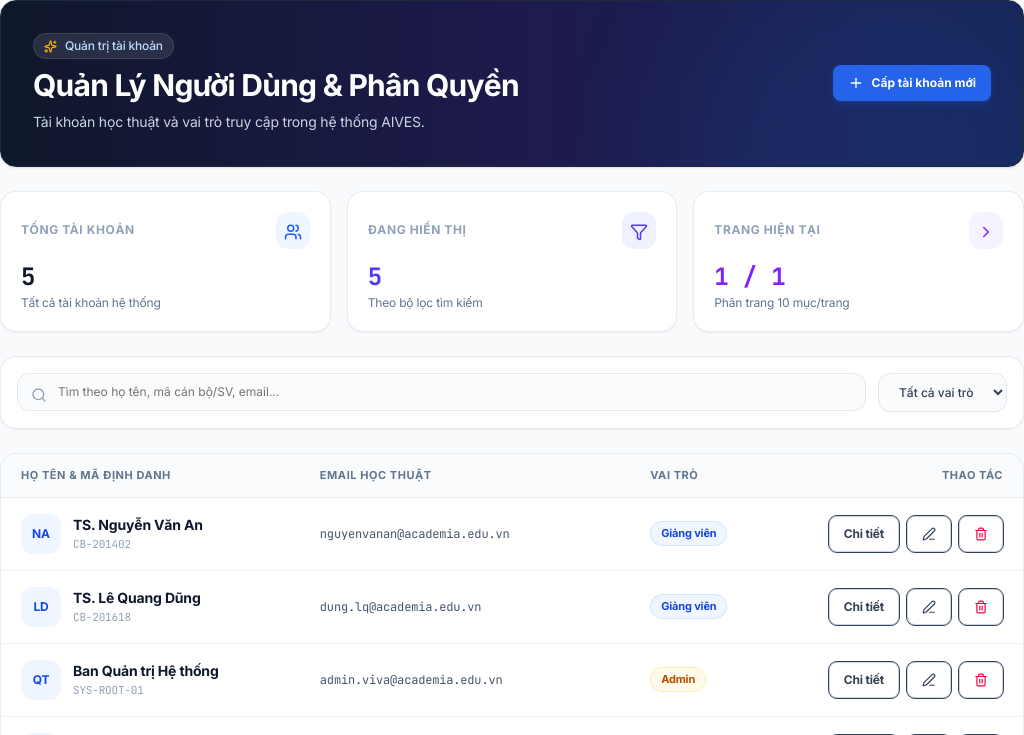
Scenario: Admin User Creation Flow › opens create modal, fills form, submits, closes modal, and shows success alert
expect the link "TS. Nguyễn Văn An" is shown: met, box [73,516,203,533]
# Click "Cấp tài khoản mới"
Click the button "Cấp tài khoản mới" at [912, 83], box [833,65,991,101]
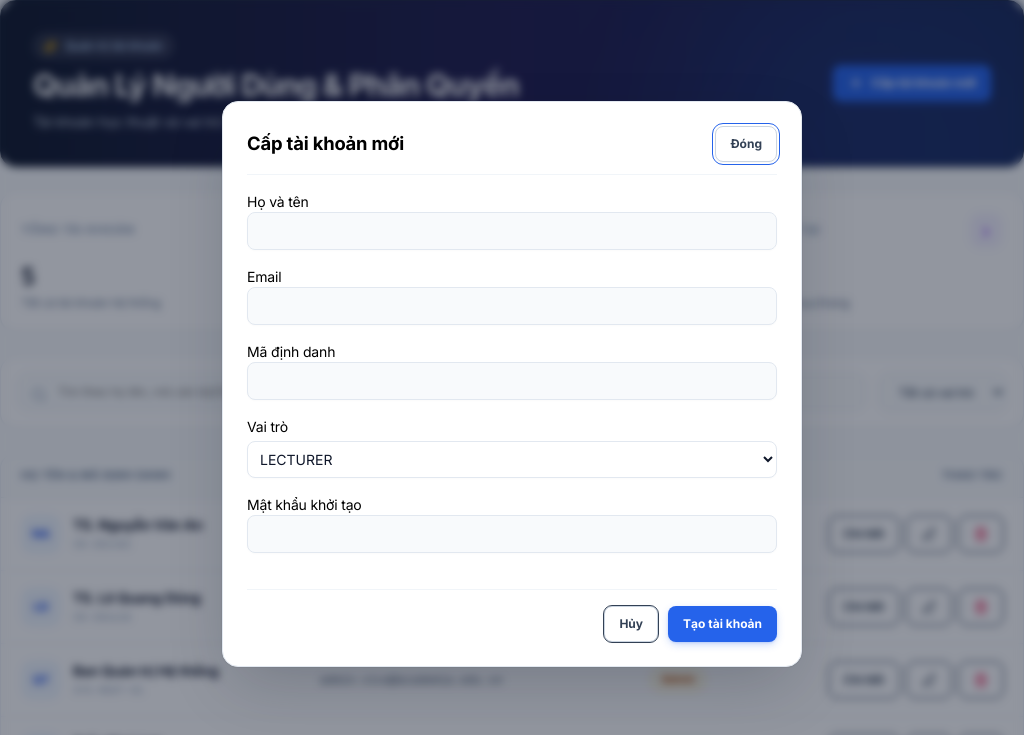
expect the heading "Cấp tài khoản mới" is shown: met, box [247,130,404,158]
Type "Giảng Viên Test" into the field labelled "Họ và tên" at [512, 231], box [247,212,777,250]
Type "gvtest@academia.edu.vn" into the field labelled "Email" at [512, 306], box [247,287,777,325]
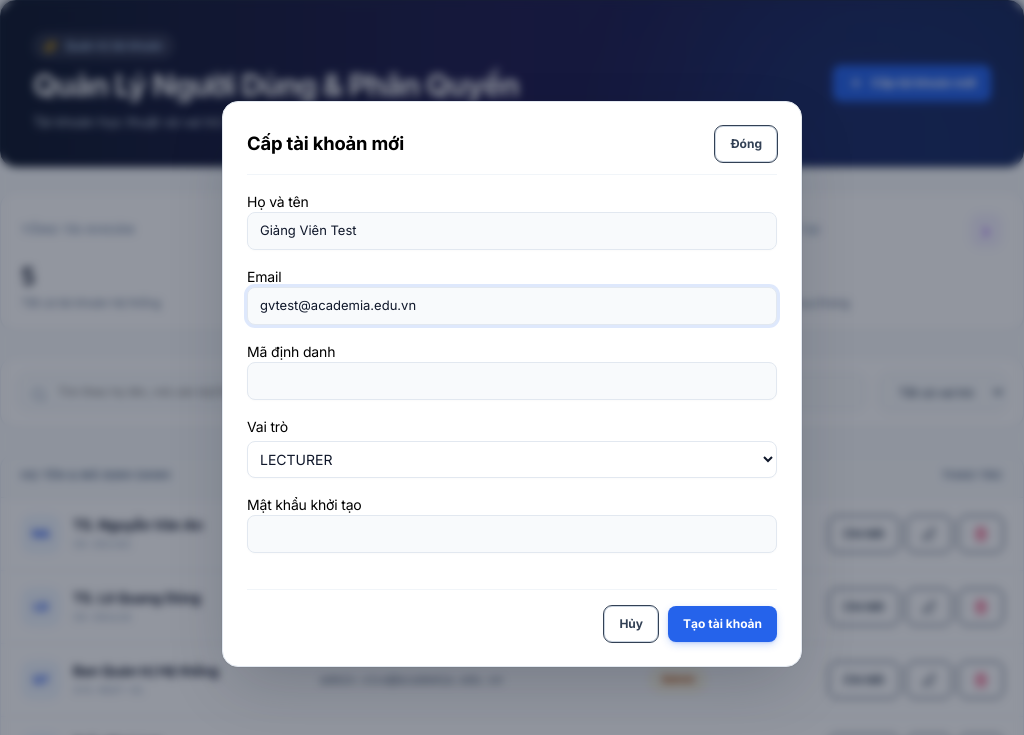
Type "CB-99999" into the field labelled "Mã định danh" at [512, 381], box [247,362,777,400]
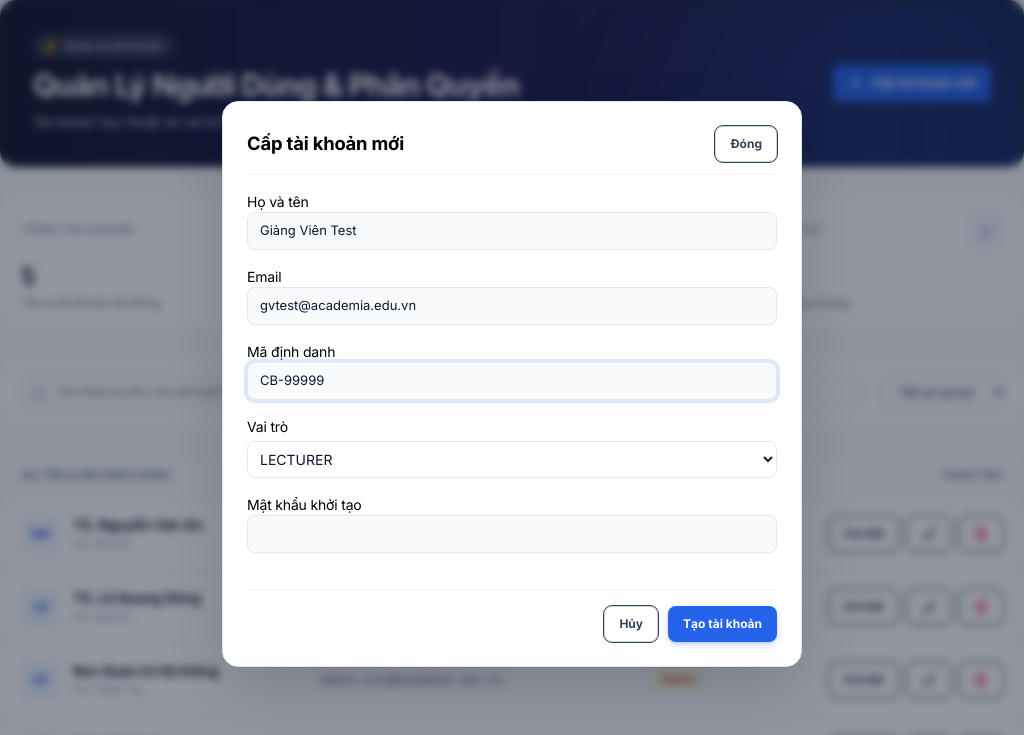
Type "Password123!" into the password field labelled "Mật khẩu khởi tạo" at [512, 534], box [247,515,777,553]
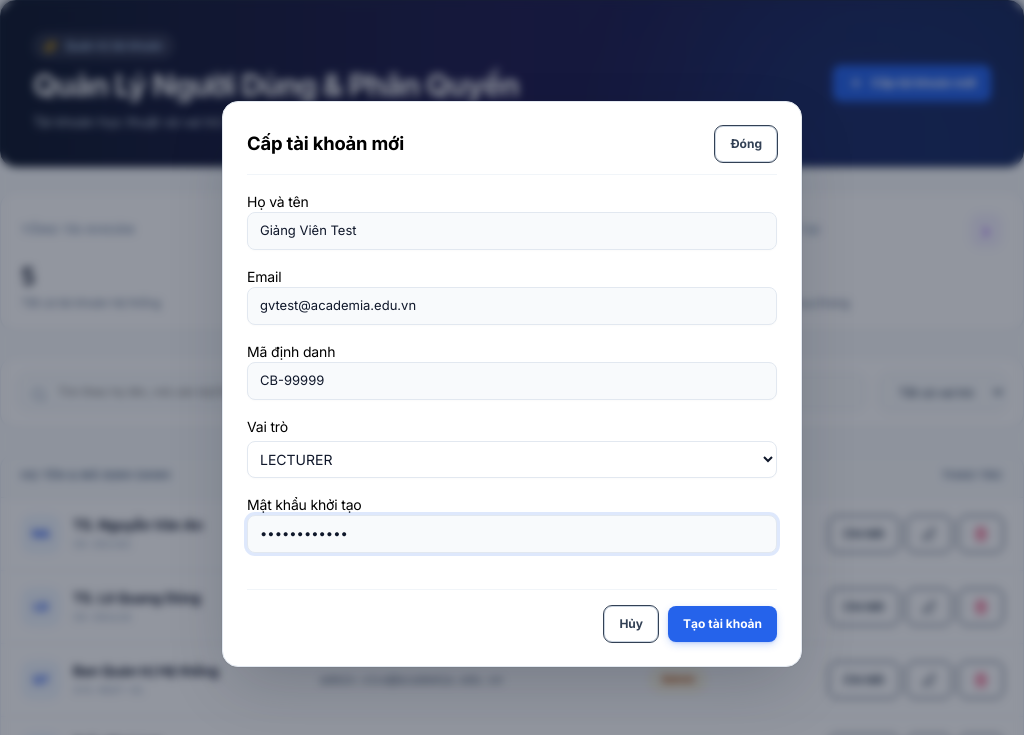
# Submit via "Tạo tài khoản" button
Click the button "Tạo tài khoản" at [723, 624], box [668,606,777,642]
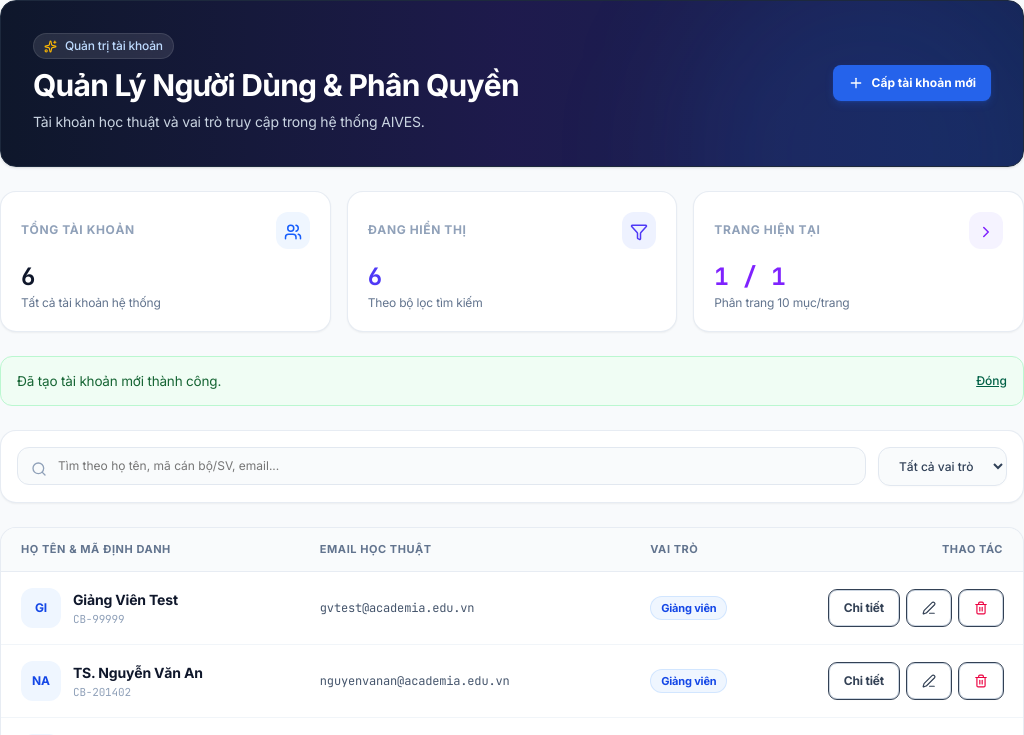
expect the text "Đã tạo tài khoản mới thành công." is shown: met, box [17,371,221,391]
# Dismiss feedback
Click the button "Đóng" at [992, 381], box [976,373,1007,389]
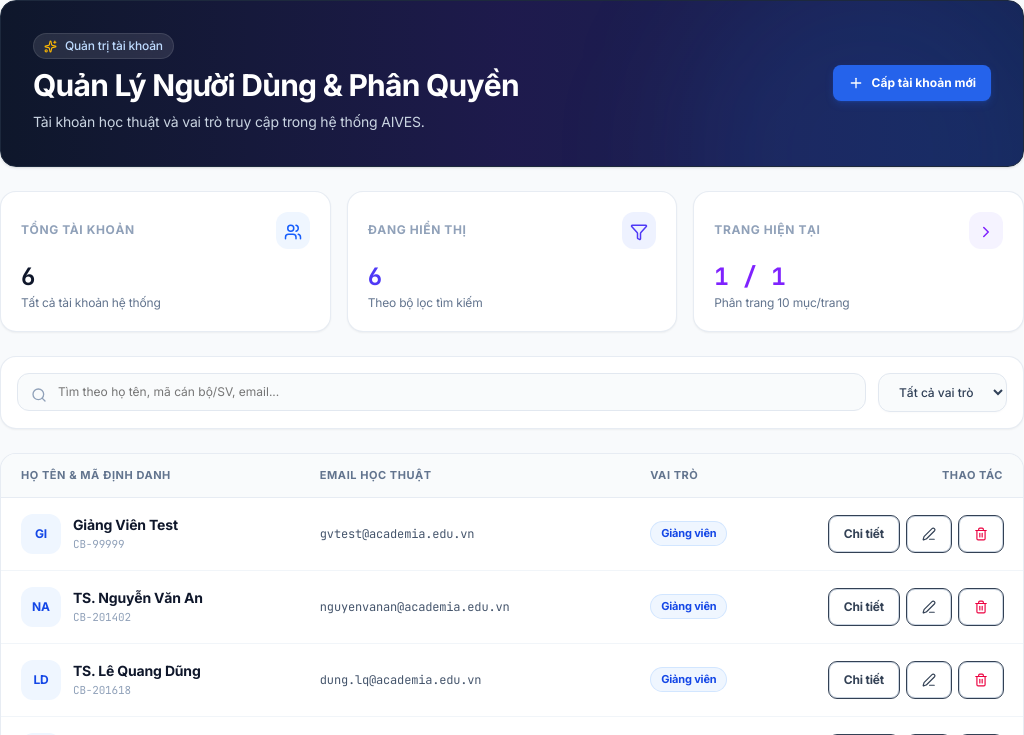
expect the text "Đã tạo tài khoản mới thành công." is gone: met
